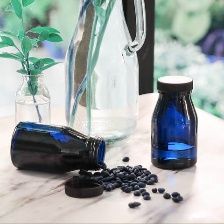bottle: (62, 0, 144, 146), (8, 119, 105, 174), (148, 72, 200, 171), (13, 68, 52, 130)
